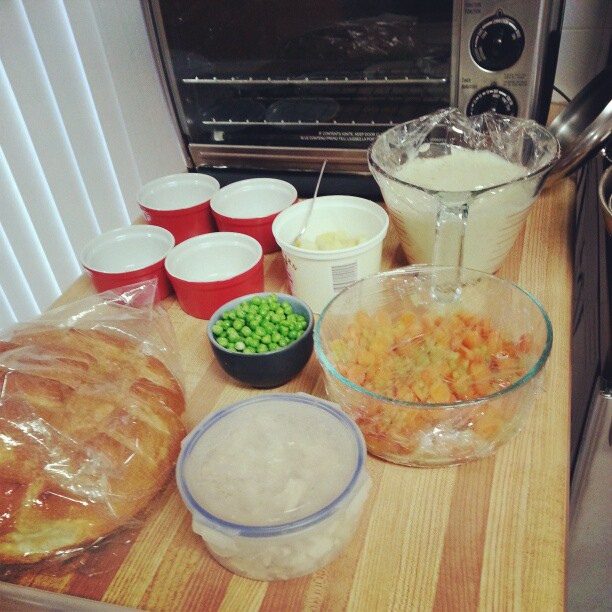boiled peas: (214, 293, 306, 356)
glass of milk: (382, 148, 533, 275)
